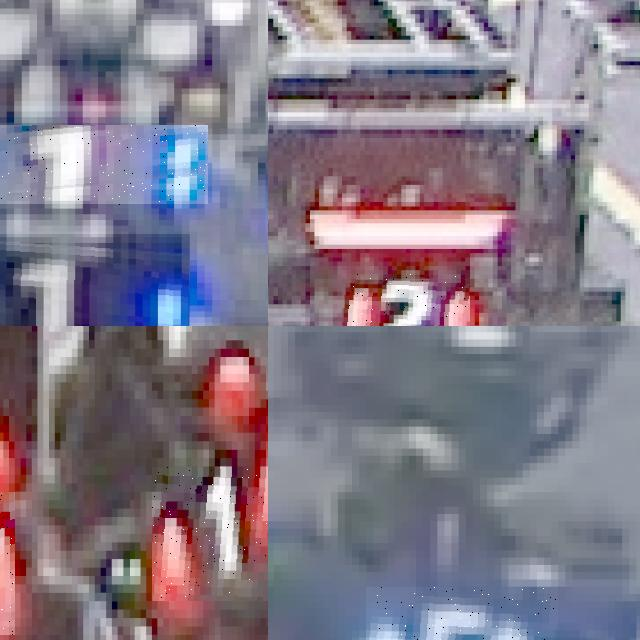B1: (0, 234, 189, 326), (0, 125, 208, 205)
B5: (366, 587, 558, 640)
R1: (152, 466, 268, 601)
R2: (342, 274, 470, 326)
